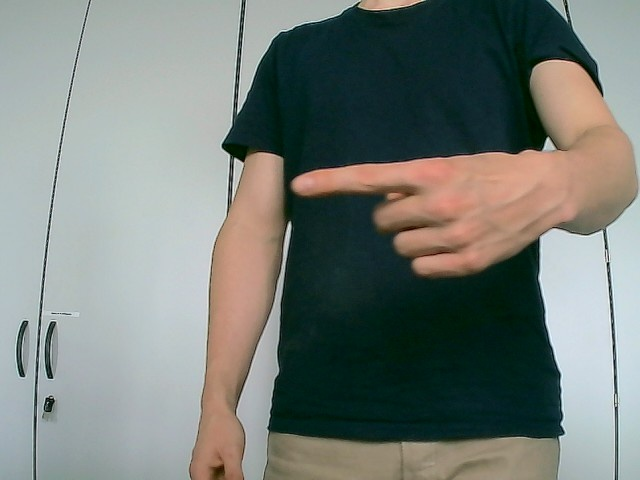right: (289, 148, 575, 280)
